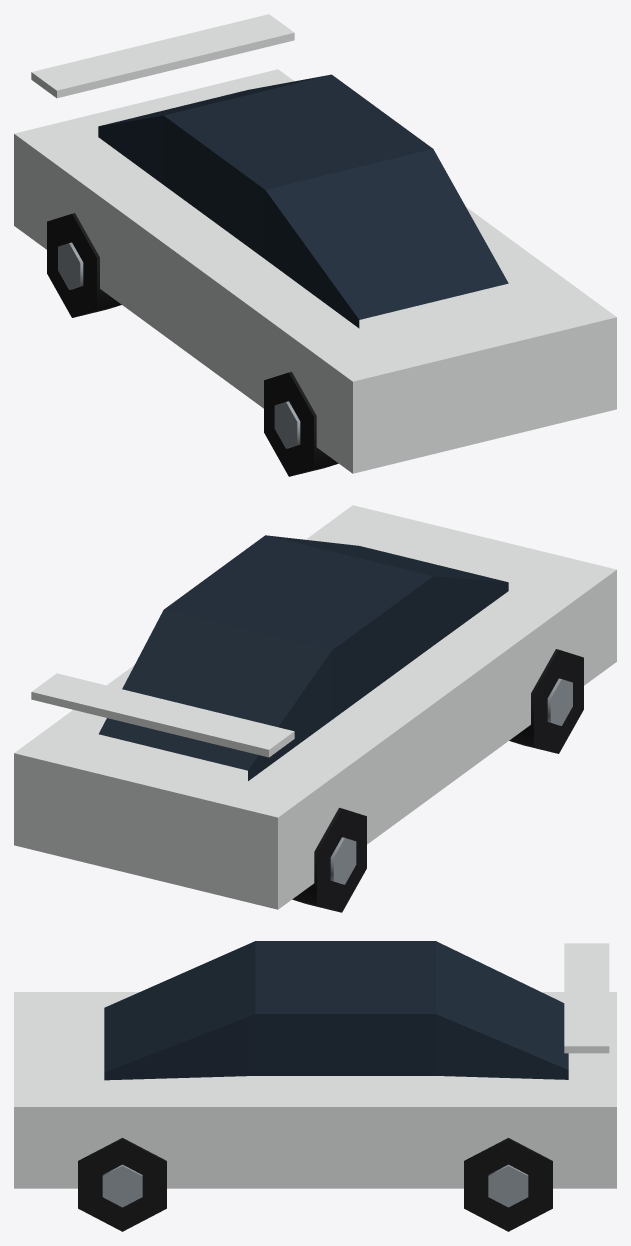
File: veh_ground_car_a08_lod1.glb
3 renders of one model, top to bottom at view 1: azimuth 30°, elevation 25°; view 2: azimuth 150°, elevation 25°; view 3: azimuth 270°, elevation 25°, orthographic. The views are drawn at different scales.
Parts seen in each view (by area): view 1: body, wheel_0, wheel_2; view 2: body, wheel_2, wheel_0; view 3: body, wheel_1, wheel_3.
Boxes of the visible parts, box(x1,y1,x2,y2) form: body: box(14, 14, 616, 473); wheel_0: box(47, 213, 121, 317); wheel_2: box(264, 372, 338, 476); body: box(14, 505, 616, 909); wheel_2: box(509, 649, 583, 753); wheel_0: box(292, 807, 366, 912); body: box(14, 941, 616, 1188); wheel_1: box(464, 1138, 552, 1231); wheel_3: box(78, 1138, 166, 1231).
Bounding box in the file's own units: 1.88 × 1.43 × 4.
